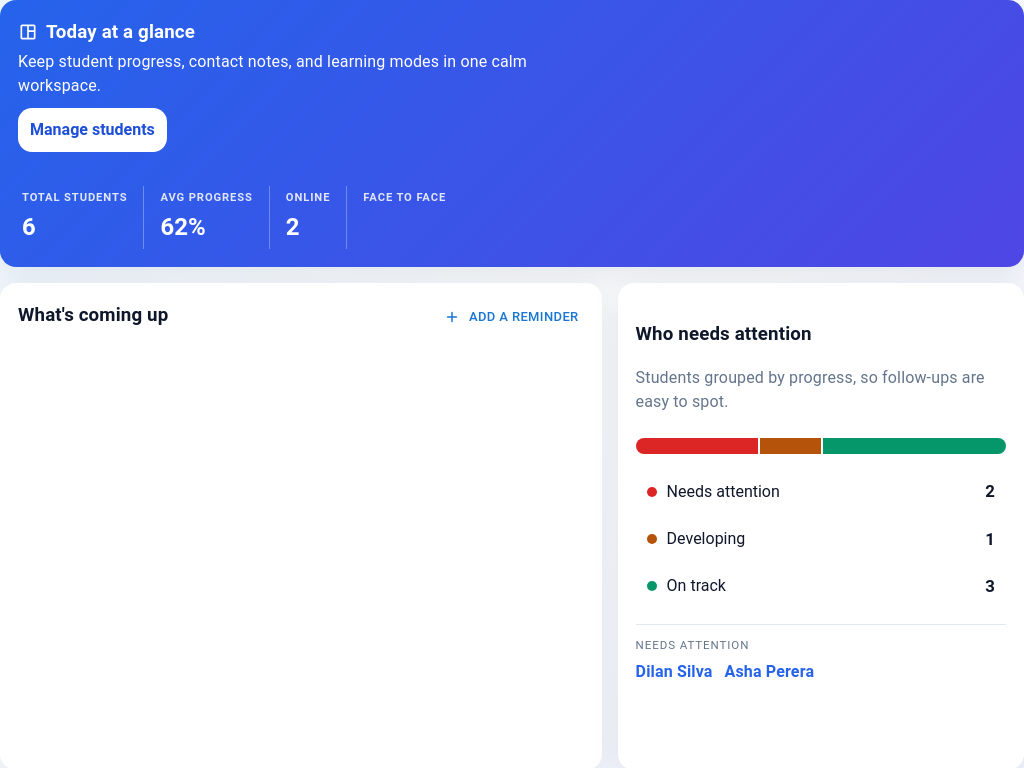
Test case: DashboardView › swaps the revealed band on hover (desktop), across bar and legend
The width and height of the screenshot is (1024, 768).
Hover over the button "On track 3" at (696, 586), box [636,565,1006,608]
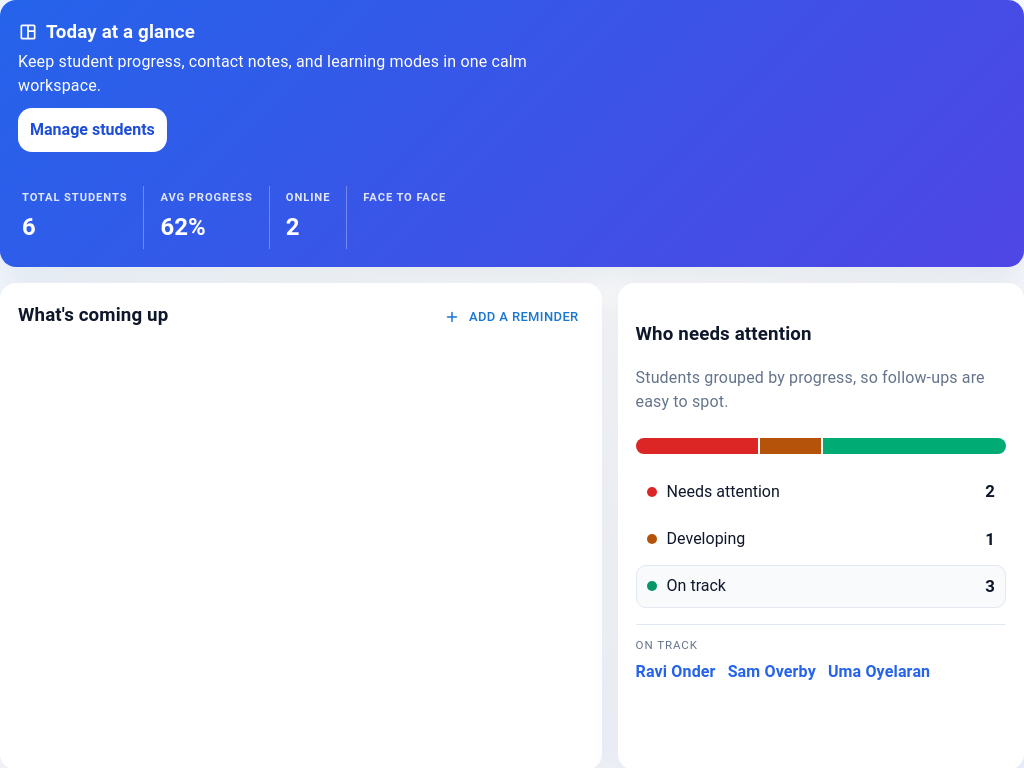
Expected: the link "Ravi Onder" is shown, [636,660,716,684]
Hover over the button "Needs attention 2" at (723, 491), box [636,470,1006,514]
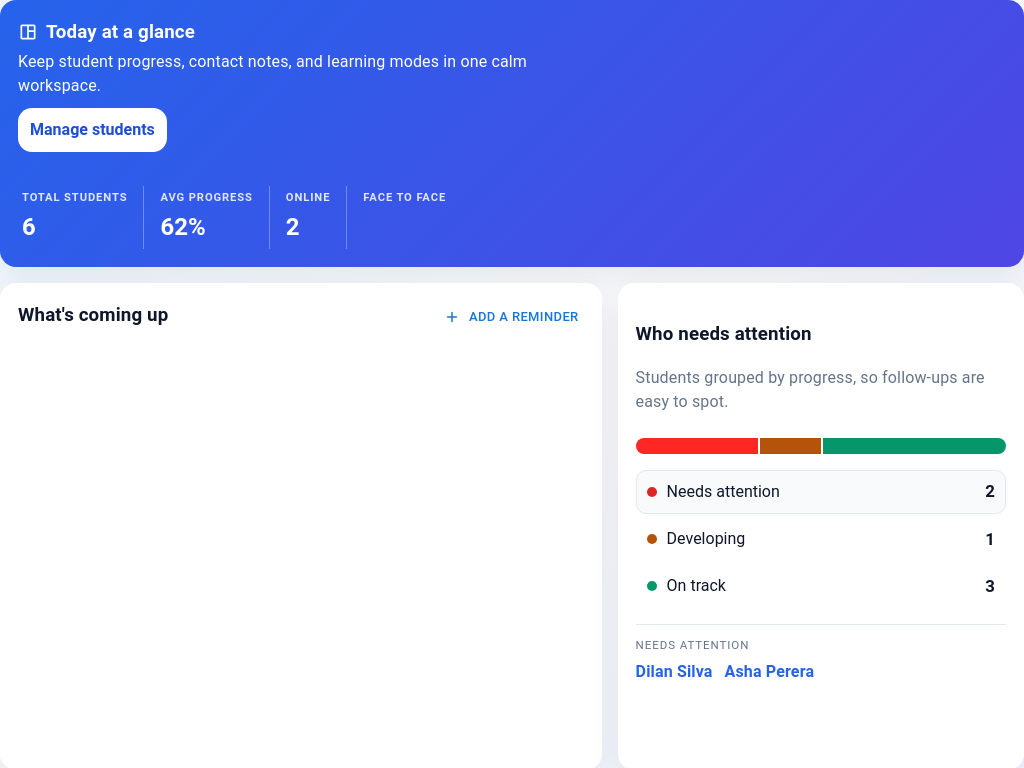
Expected: the link "Dilan Silva" is shown, [636,660,713,684]
Expected: the link "Ravi Onder" is gone
Hover over the button named "on track: ravi onder" at (914, 446), box [823,438,1006,454]
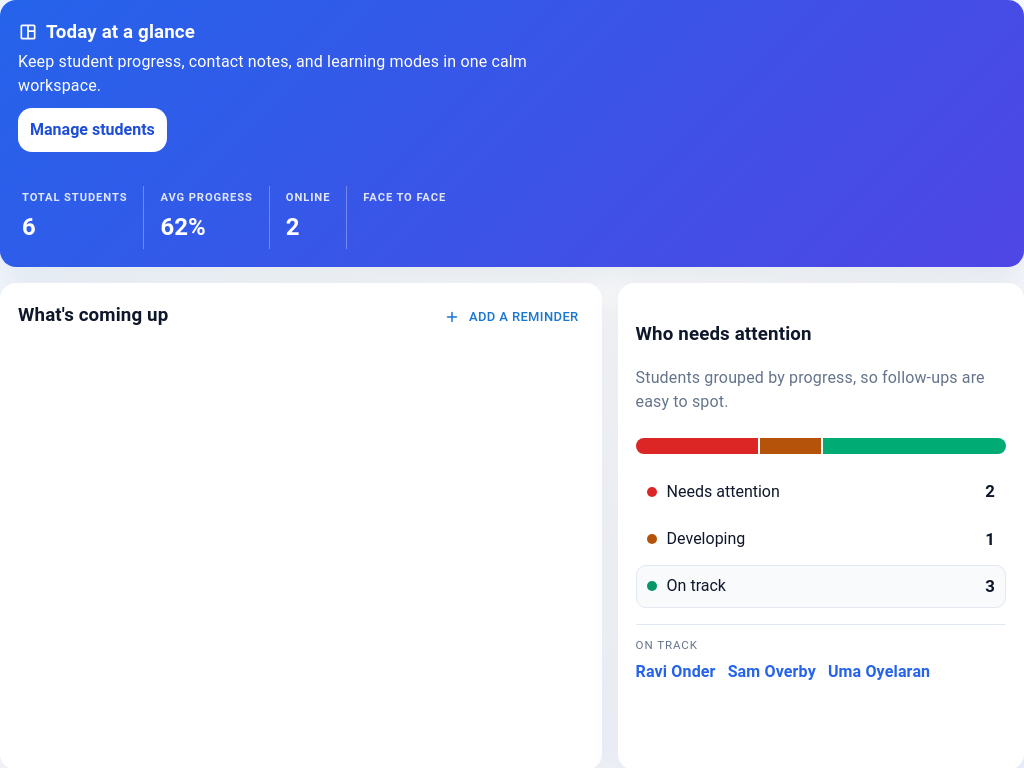
Expected: the link "Sam Overby" is shown, [728,660,816,684]
Leaving the segment reverts to the default (neediest) band.
Hover over the button "Needs attention 2" at (723, 491), box [636,470,1006,514]
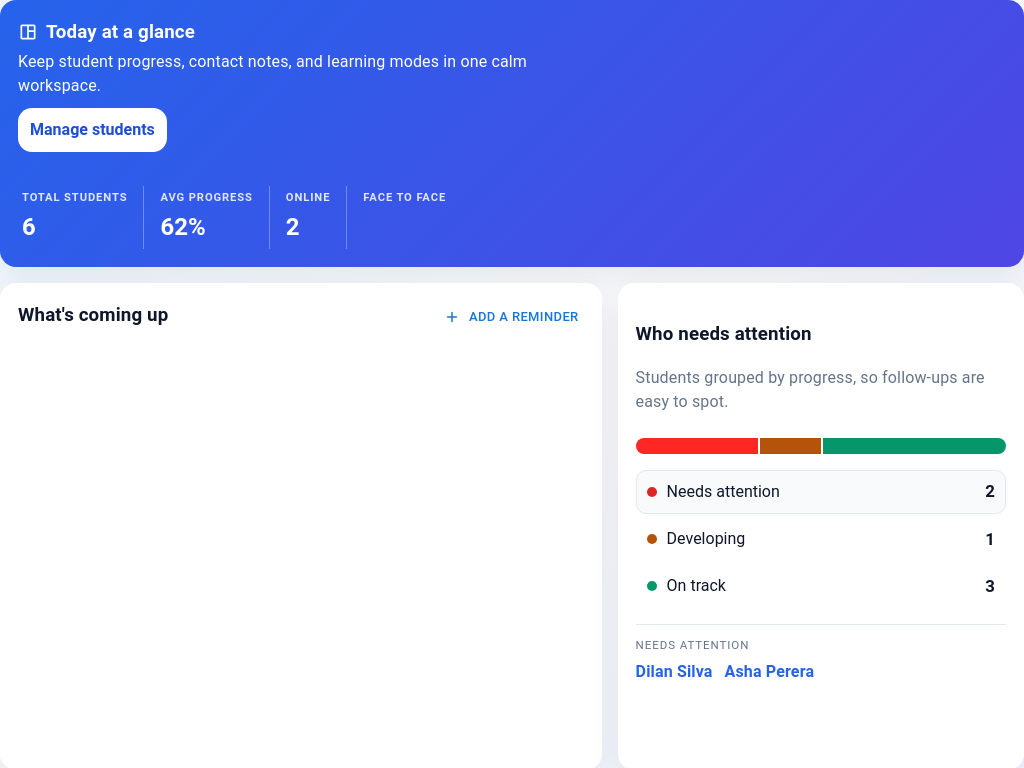
Expected: the link "Sam Overby" is gone
